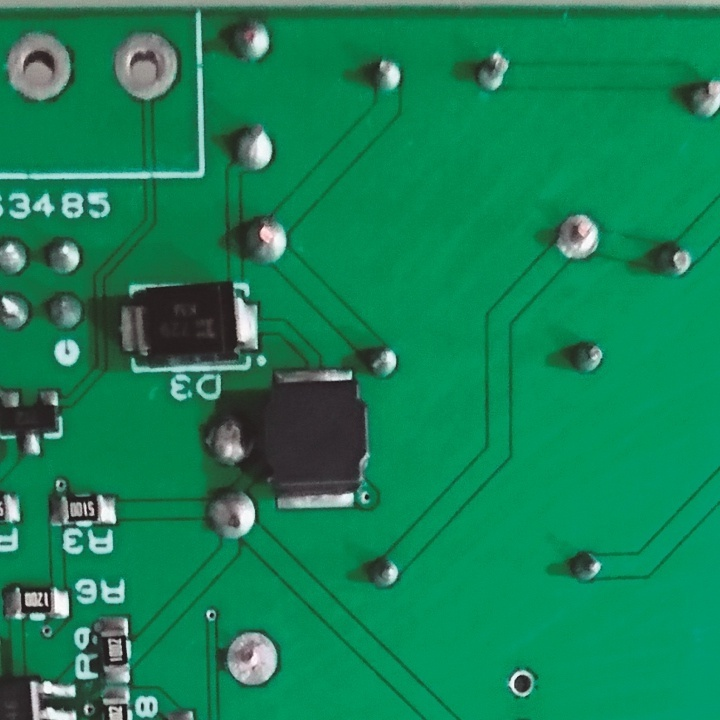F: (4, 26, 76, 102), (110, 26, 181, 103), (222, 628, 283, 690), (554, 209, 605, 263), (499, 663, 541, 691)
